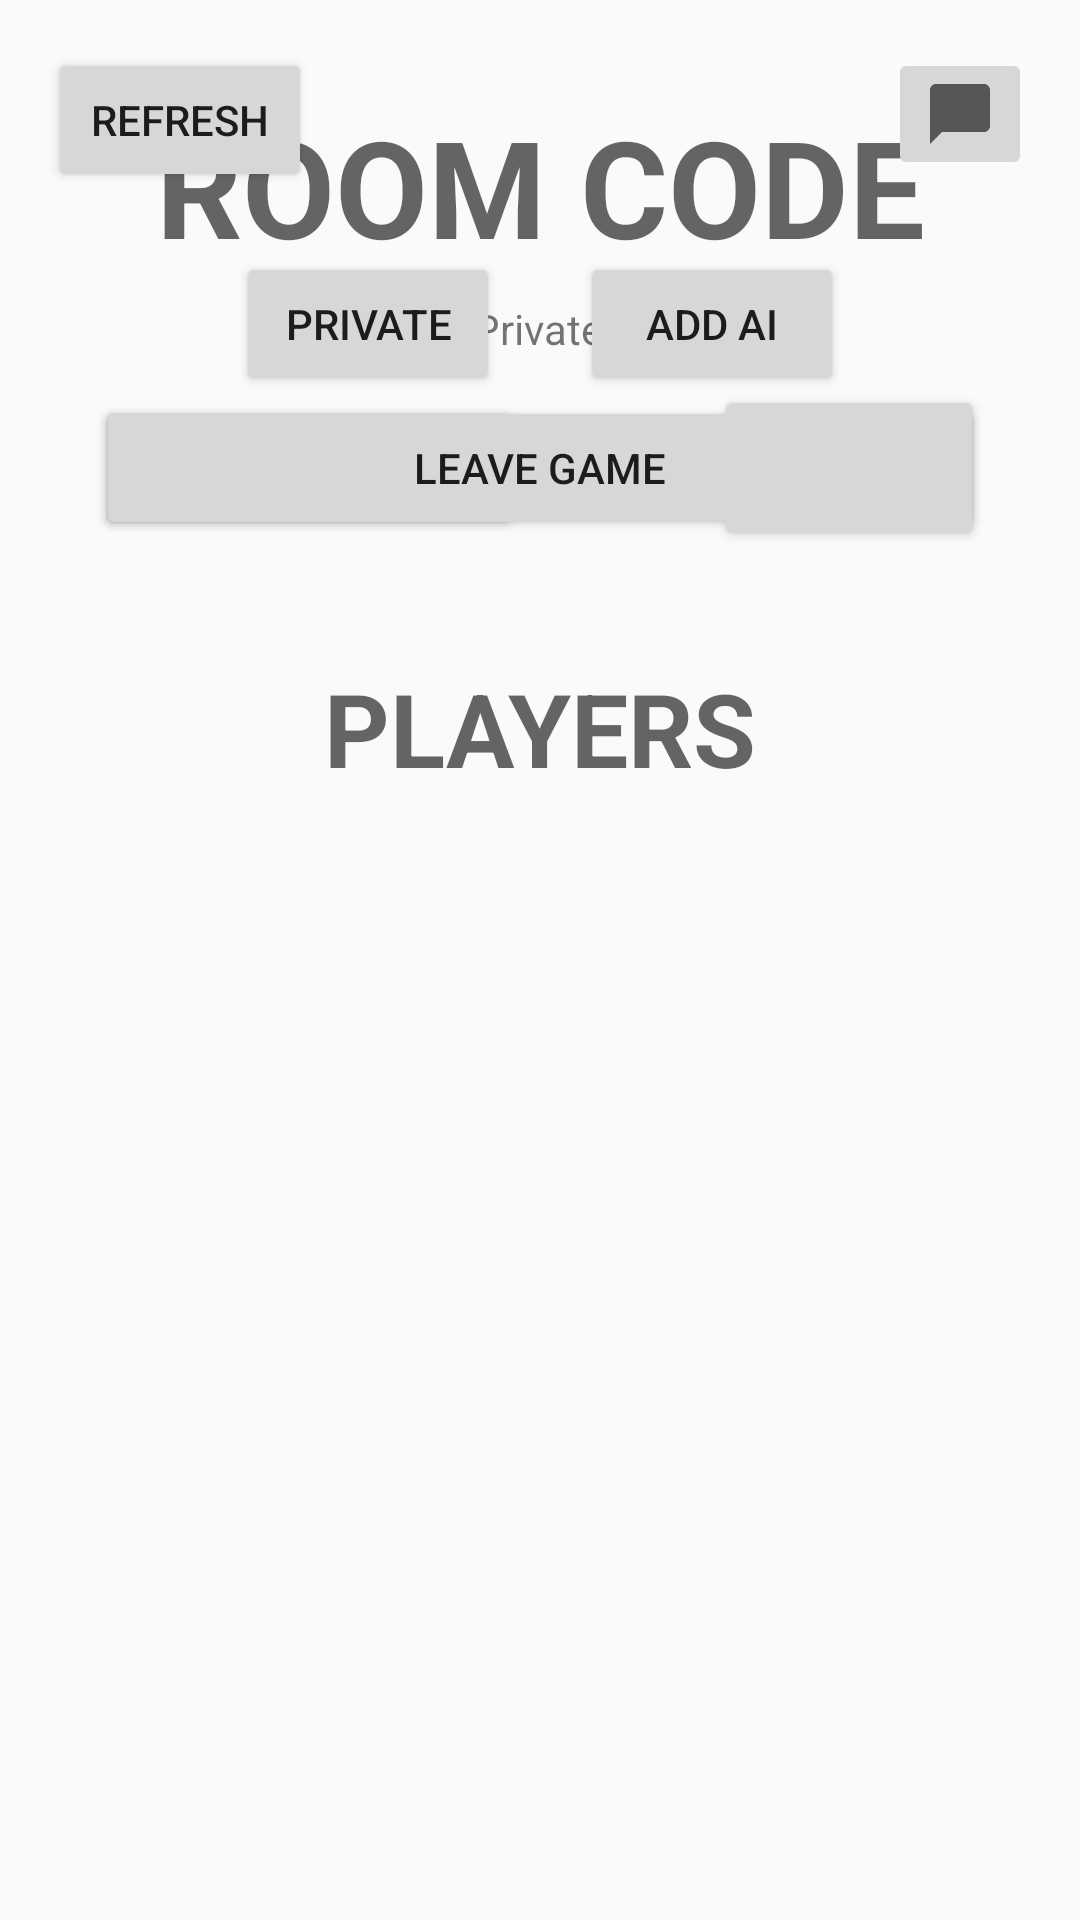

Locate icon controls on the screen. Image size 1080w x 1920h, boxes as region(x1, y1, x2, y2).
Chat Button: region(888, 66, 1020, 162)
